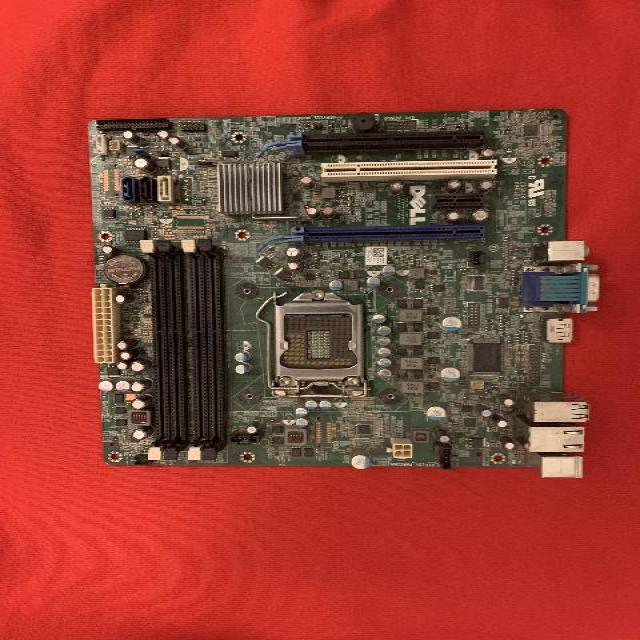Mainboard: (89, 108, 600, 480)
